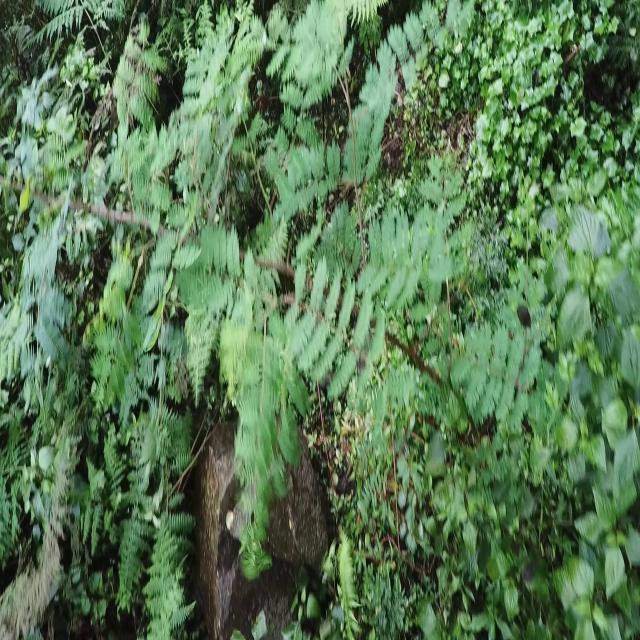Mysore-Thorn-Weed: (0, 0, 530, 520)
